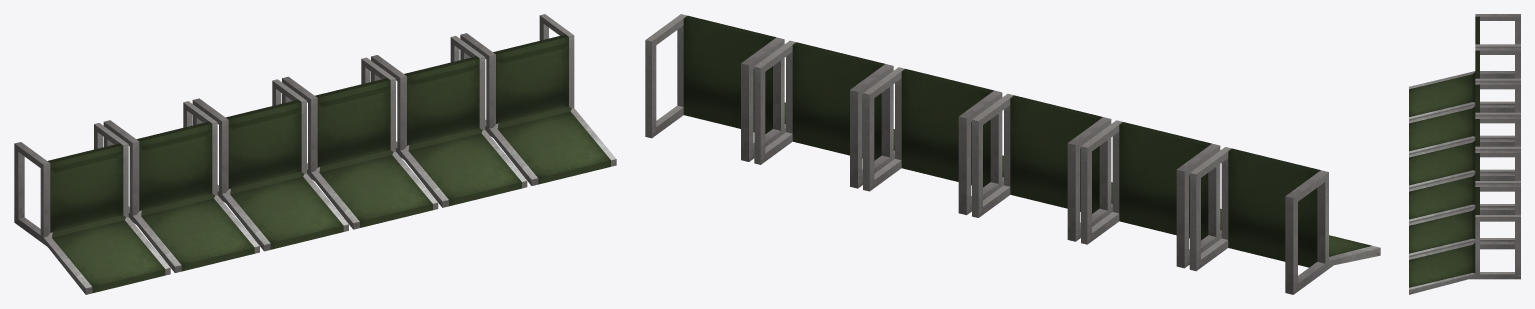
The model's file is chairs.glb.
3 views of the same model, side by side, from view 1: azimuth 30°, elevation 25°; view 2: azimuth 150°, elevation 25°; view 3: azimuth 270°, elevation 25° (orthographic). The views are drawn at different scales.
Visible parts, largest first — view 1: Chairs-col; view 2: Chairs-col; view 3: Chairs-col.
Boxes of the visible parts, box(x1,y1,x2,y2) form: Chairs-col: box(14, 14, 616, 294); Chairs-col: box(645, 14, 1380, 294); Chairs-col: box(1409, 14, 1520, 294).
Size of the model in its own units: 2.78 by 0.4965 by 0.6471.
1 material, 1 textured.
